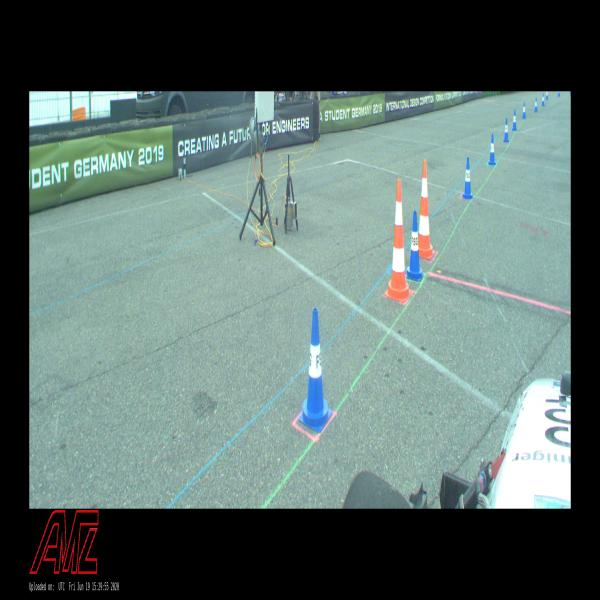blue_cone: (299, 308, 332, 432), (405, 210, 424, 282), (462, 157, 472, 200), (488, 134, 496, 165), (503, 118, 510, 142), (512, 110, 517, 130), (522, 102, 526, 119), (534, 98, 538, 112), (542, 94, 544, 106), (546, 91, 548, 99), (558, 92, 560, 97)
large_orange_cone: (385, 179, 412, 302), (418, 160, 434, 259)
